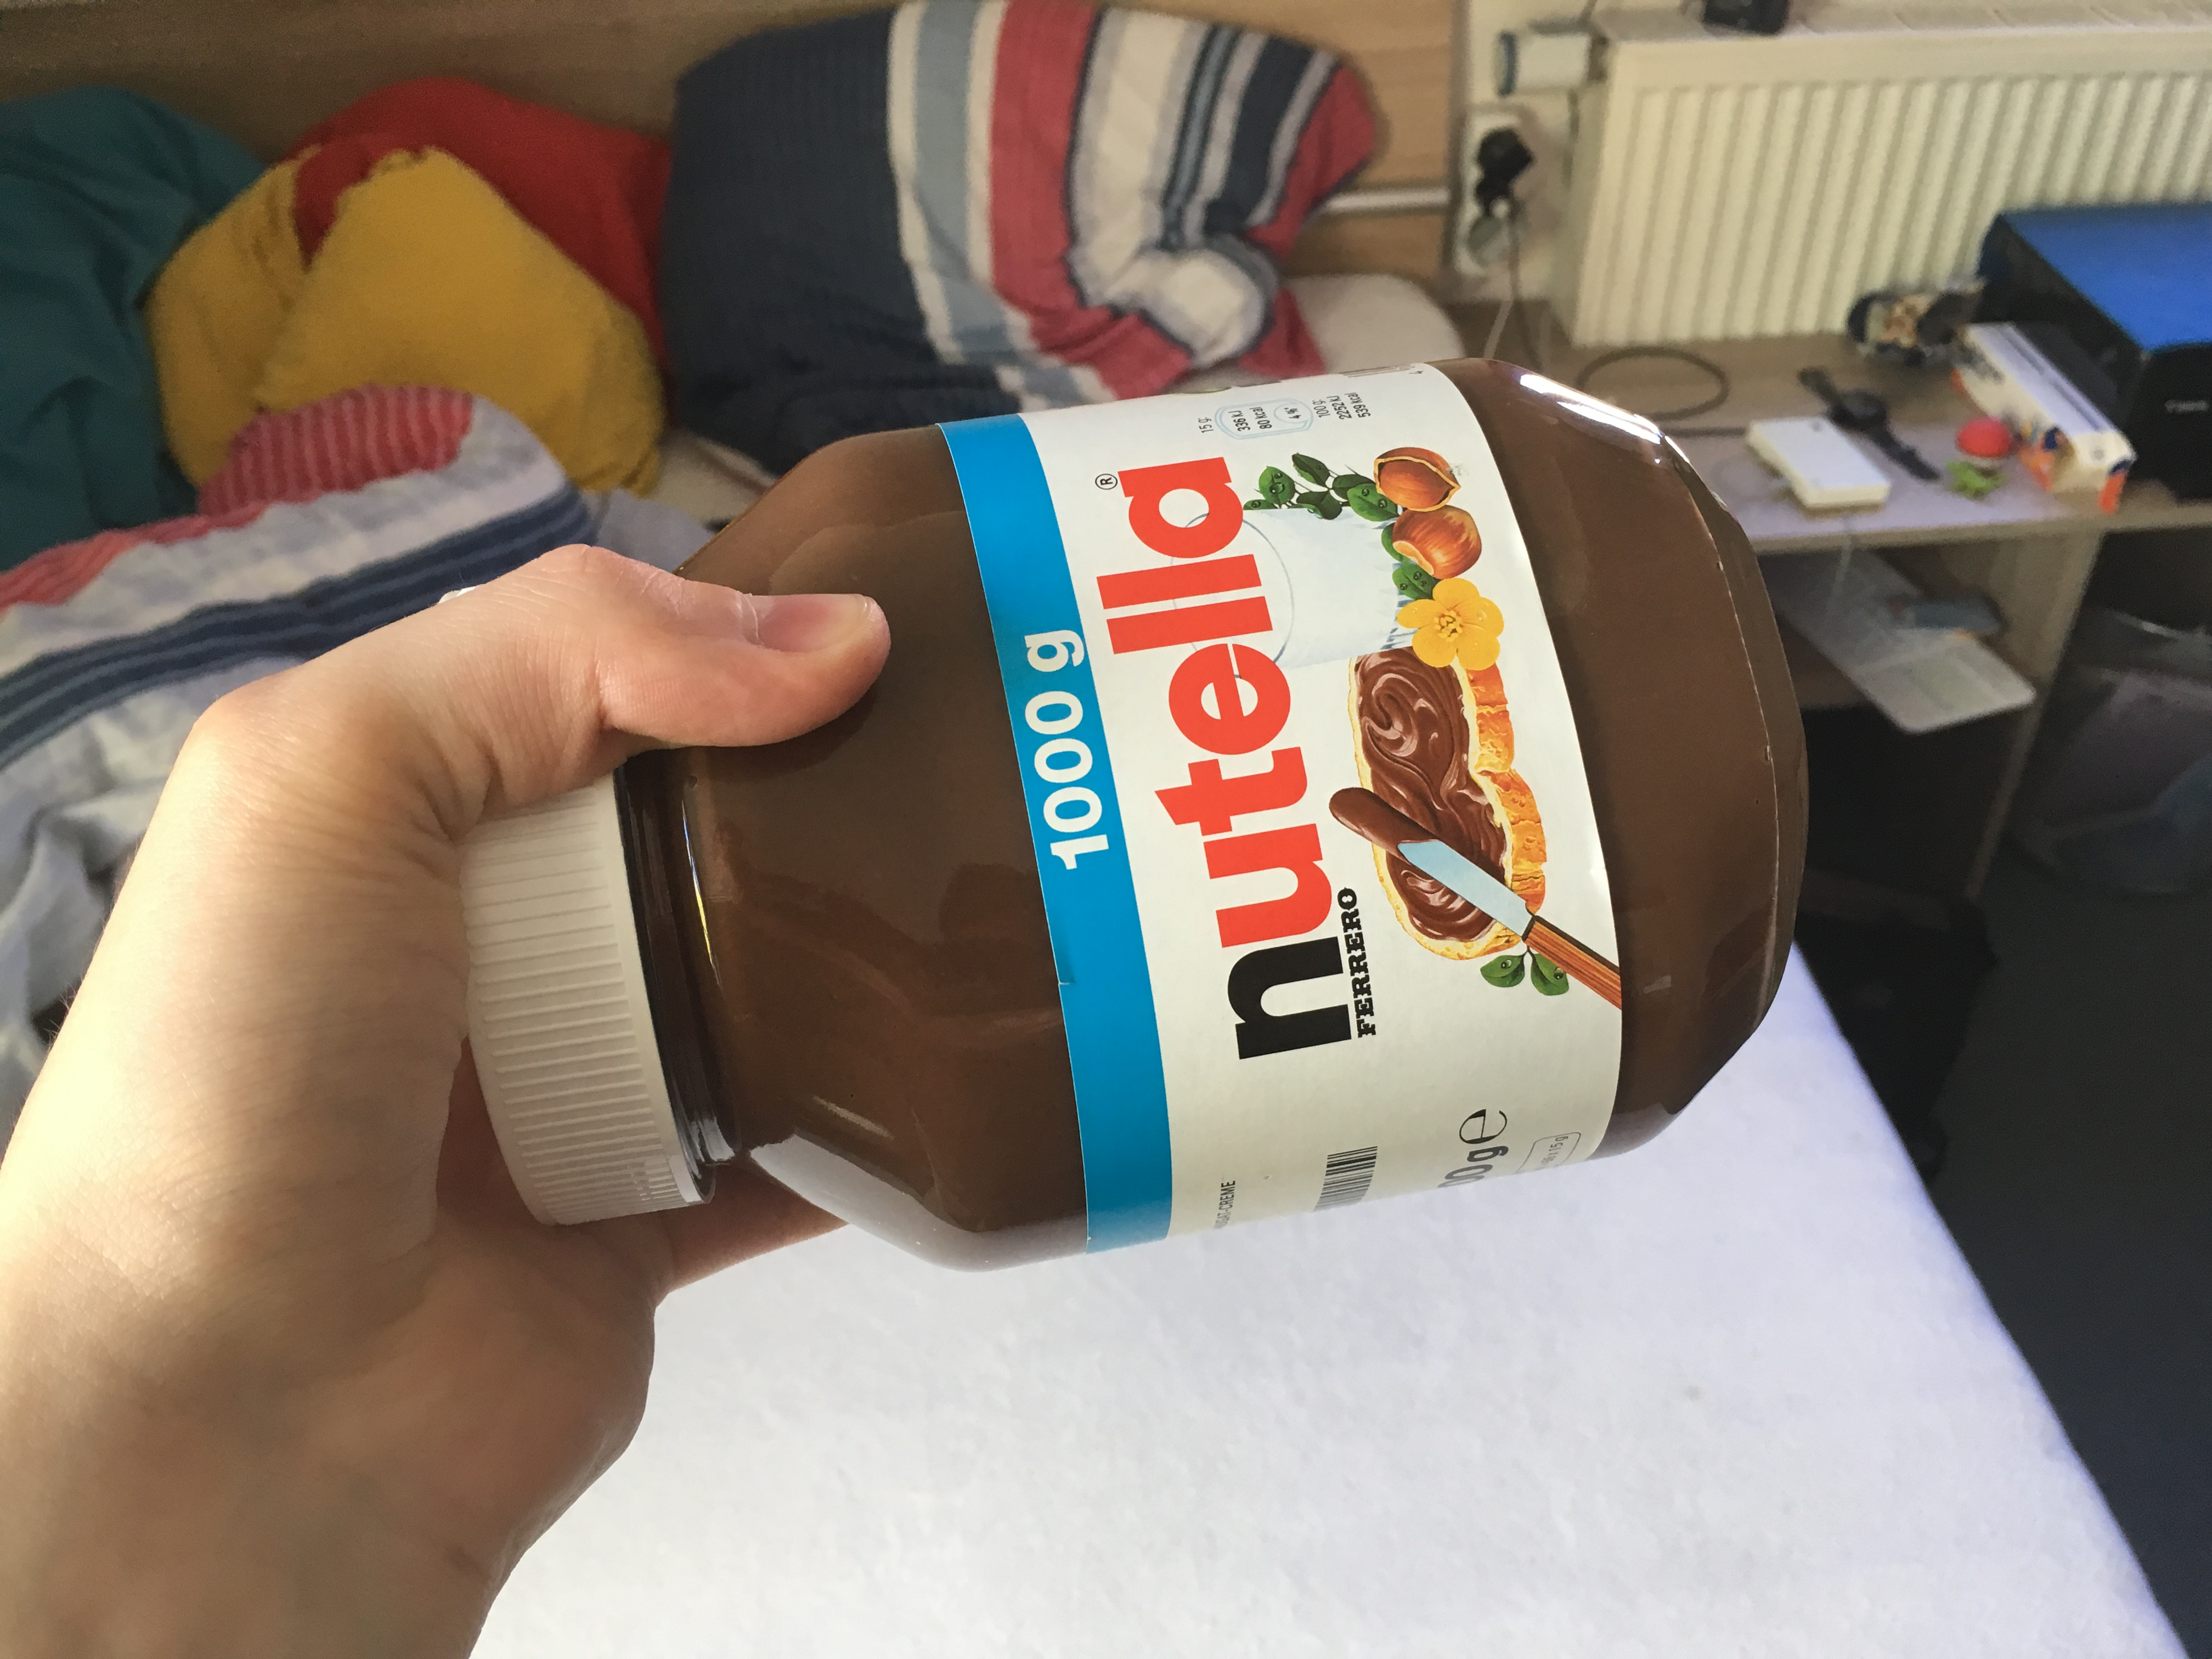nutella: (441, 354, 1811, 1277)
